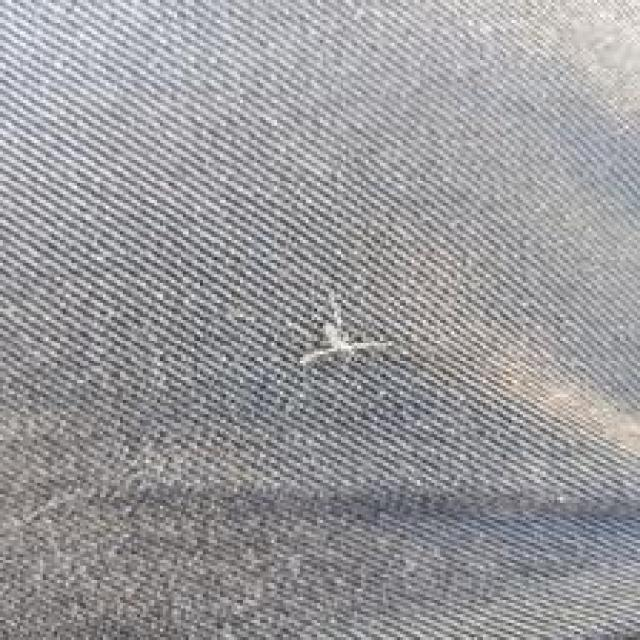Aedes albopictus: (296, 292, 396, 374)
